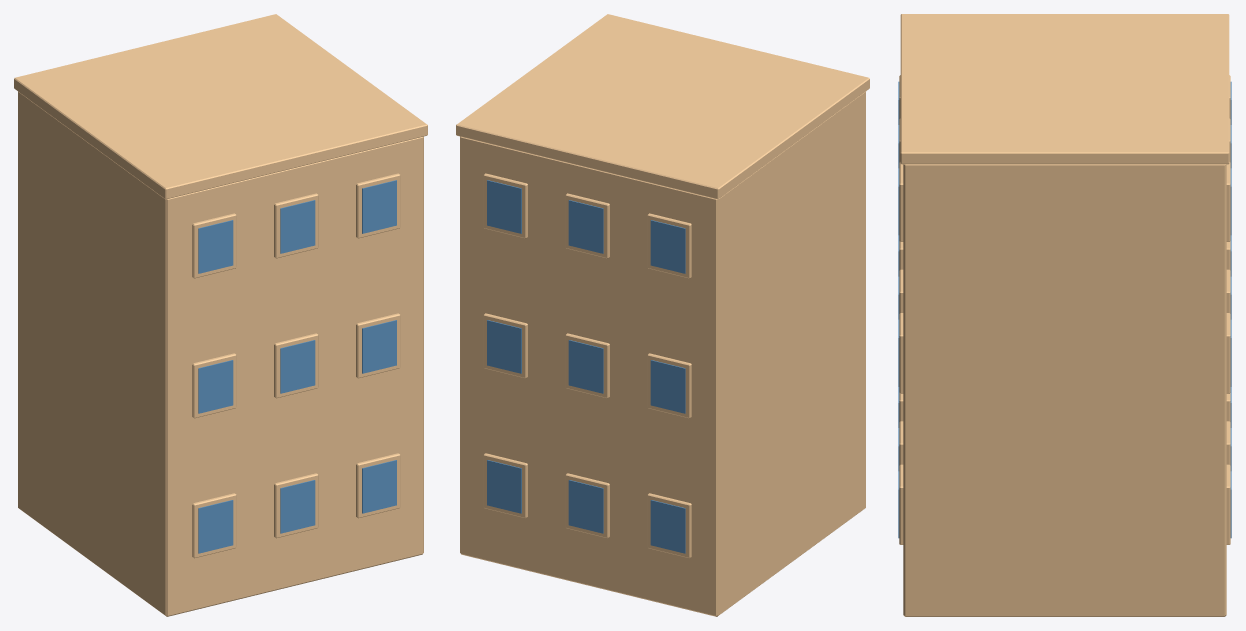
File: house_b.glb
3 views of the same model, side by side, from view 1: azimuth 30°, elevation 25°; view 2: azimuth 150°, elevation 25°; view 3: azimuth 270°, elevation 25° (orthographic). The views are drawn at different scales.
Parts seen in each view (by area): view 1: wall, house_cap, wall_glass0, wall_glass1, wall_glass3, wall_glass4, wall_glass6, wall_glass7, wall_glass2, wall_glass5, wall_glass8, wall_frame7 (+8 smaller); view 2: wall, house_cap, wall_glass_b0, wall_glass_b1, wall_glass_b3, wall_glass_b4, wall_glass_b6, wall_glass_b7, wall_glass_b2, wall_glass_b5, wall_glass_b8, wall_frame_b7 (+8 smaller); view 3: wall, house_cap.
Part boxes in pixels (x1,y1,x2,y2): wall: [18, 91, 423, 616]; house_cap: [14, 14, 427, 199]; wall_glass0: [198, 500, 233, 553]; wall_glass1: [280, 480, 315, 533]; wall_glass3: [198, 360, 233, 413]; wall_glass4: [280, 340, 315, 393]; wall_glass6: [198, 220, 233, 273]; wall_glass7: [280, 200, 315, 253]; wall_glass2: [362, 460, 396, 513]; wall_glass5: [362, 320, 396, 373]; wall_glass8: [362, 180, 396, 233]; wall_frame7: [274, 193, 318, 258]; wall: [460, 91, 865, 616]; house_cap: [456, 14, 869, 199]; wall_glass_b0: [650, 500, 685, 553]; wall_glass_b1: [568, 480, 603, 533]; wall_glass_b3: [650, 360, 685, 413]; wall_glass_b4: [568, 340, 603, 393]; wall_glass_b6: [650, 220, 685, 273]; wall_glass_b7: [568, 200, 603, 253]; wall_glass_b2: [487, 460, 521, 513]; wall_glass_b5: [487, 320, 521, 373]; wall_glass_b8: [487, 180, 521, 233]; wall_frame_b7: [565, 193, 609, 258]; wall: [903, 164, 1226, 616]; house_cap: [900, 14, 1229, 164].
Size of the model in its own units: 6.1 by 9.55 by 6.18.
